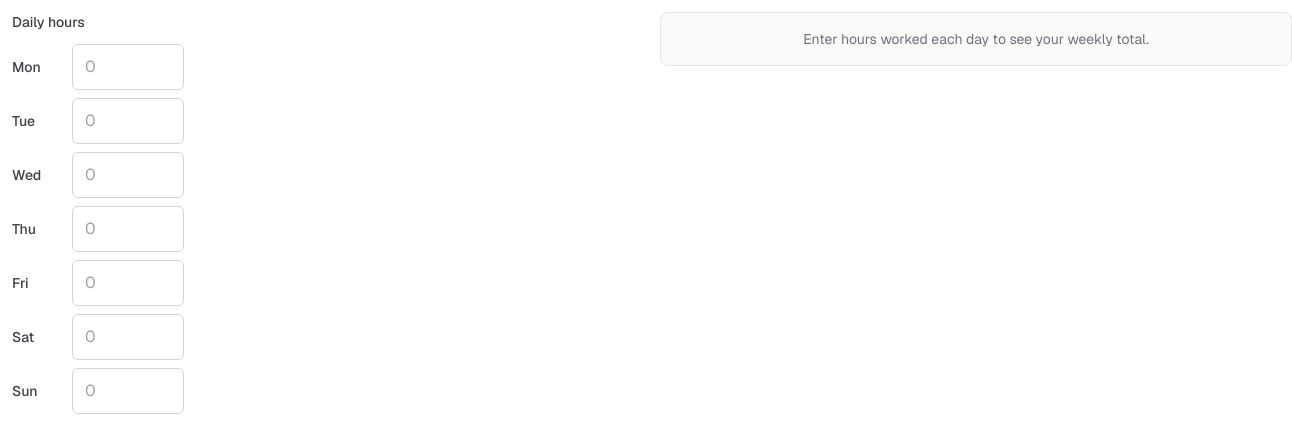
it: TimesheetCalculator › ignores empty days when summing
Type "8" into the number field named "Monday" at [128, 67], box x1=72 y1=44 x2=184 y2=90
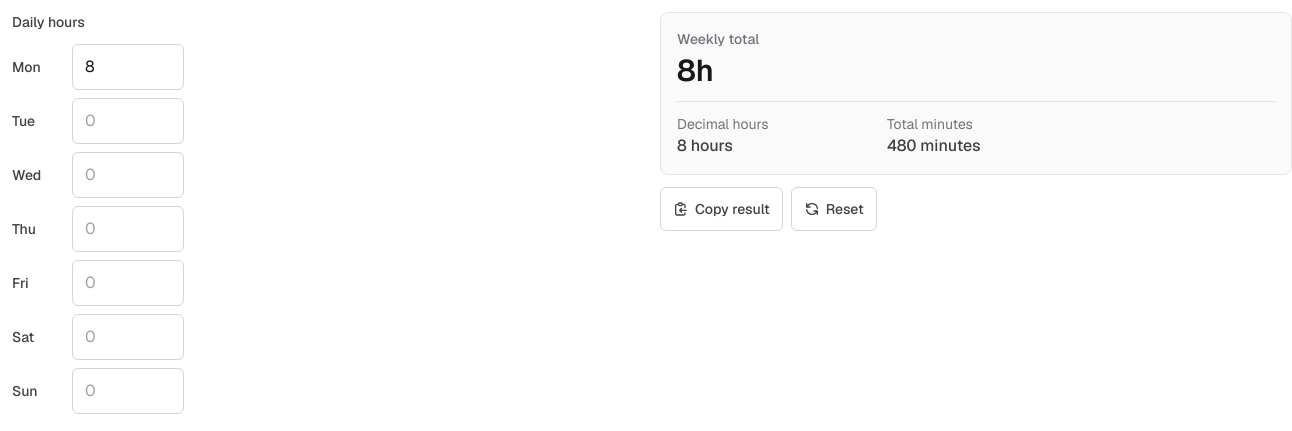
Type "4" into the number field named "Friday" at [128, 283], box x1=72 y1=260 x2=184 y2=306
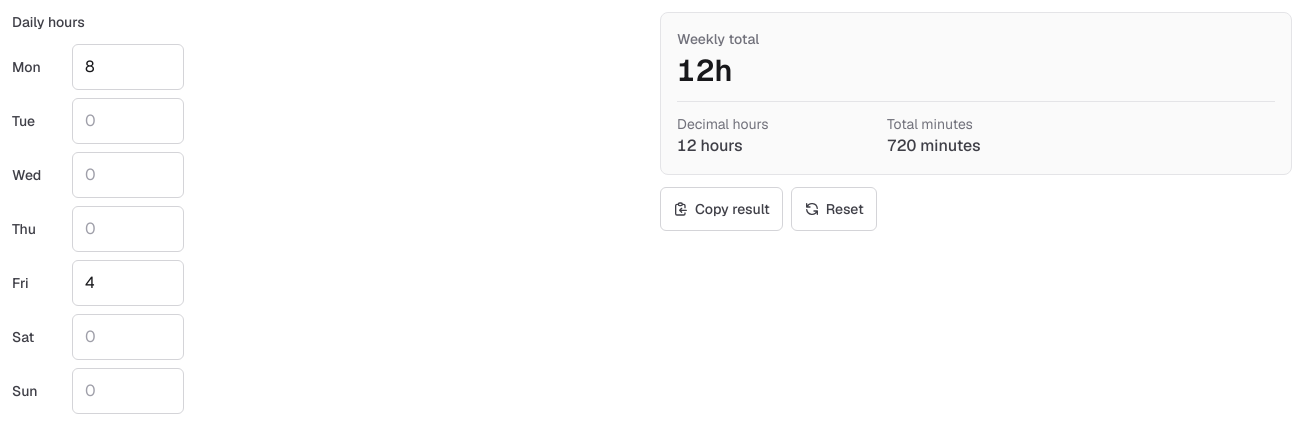
Result: the element named "Results" shows "12h" at x1=677 y1=51 x2=732 y2=90
Result: the text "12 hours" is shown at x1=677 y1=135 x2=743 y2=156
Result: the text "720 minutes" is shown at x1=887 y1=135 x2=981 y2=156
